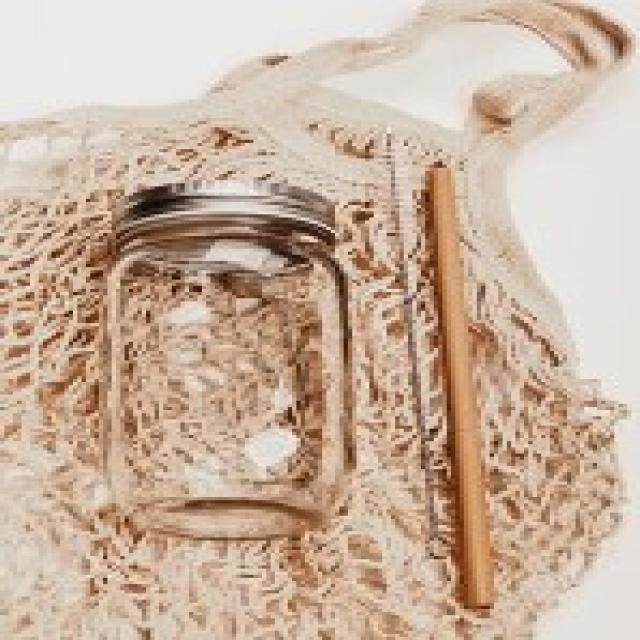electronic: (98, 180, 371, 547)
